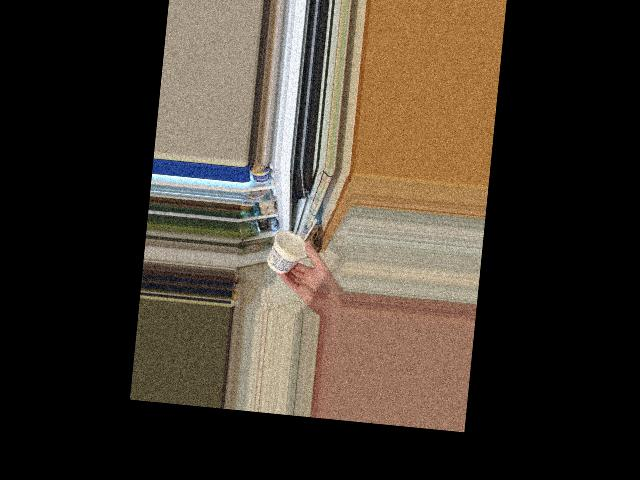cotage: (268, 229, 304, 274)
